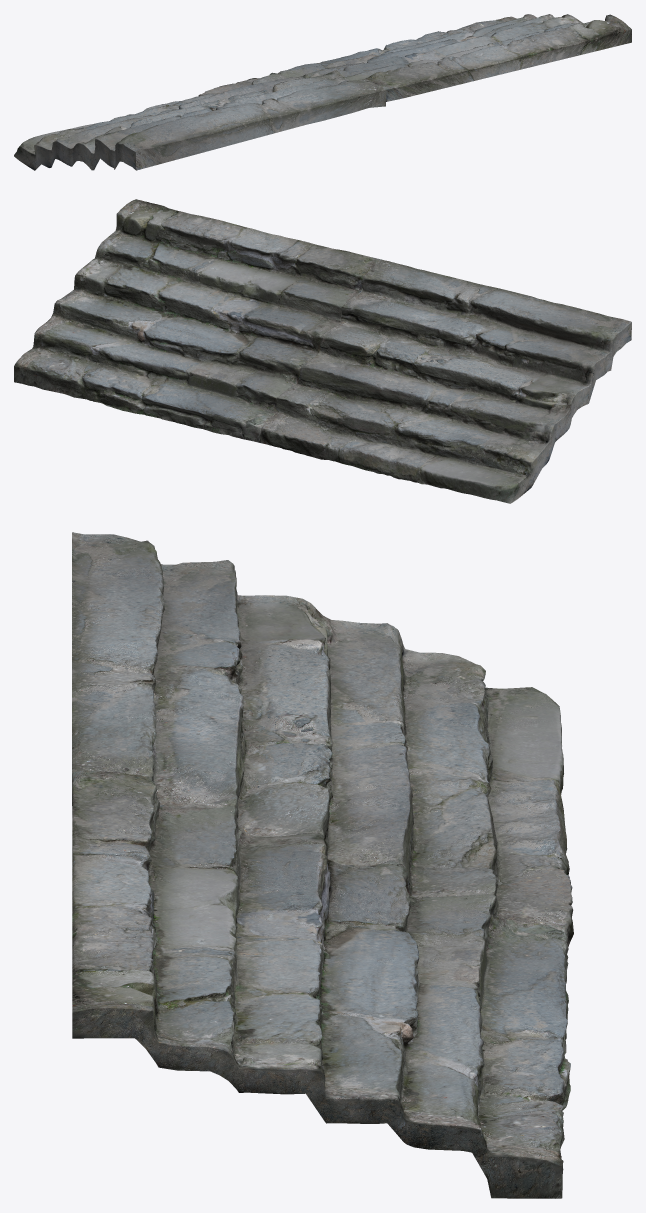
File: sm_Stairs_01_06.fbx
3 views of the same model, one above another, from view 1: azimuth 30°, elevation 25°; view 2: azimuth 150°, elevation 25°; view 3: azimuth 270°, elevation 25° (orthographic). The views are drawn at different scales.
Parts seen in each view (by area): view 1: sm_Stairs_01_06_LOD0; view 2: sm_Stairs_01_06_LOD0; view 3: sm_Stairs_01_06_LOD0.
Part boxes in pixels (<box>): sm_Stairs_01_06_LOD0: <box>14,14,631,170</box>; sm_Stairs_01_06_LOD0: <box>14,199,631,503</box>; sm_Stairs_01_06_LOD0: <box>72,532,573,1198</box>.
Size of the model in its own units: 402 by 175 by 75.93.
